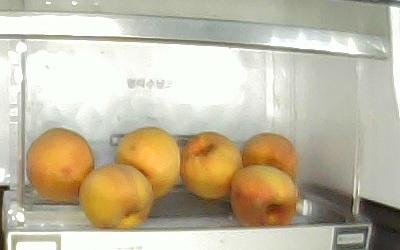peach: (77, 161, 155, 229), (24, 126, 94, 200), (113, 125, 181, 198), (178, 130, 243, 198), (228, 163, 297, 226), (241, 130, 298, 180)
